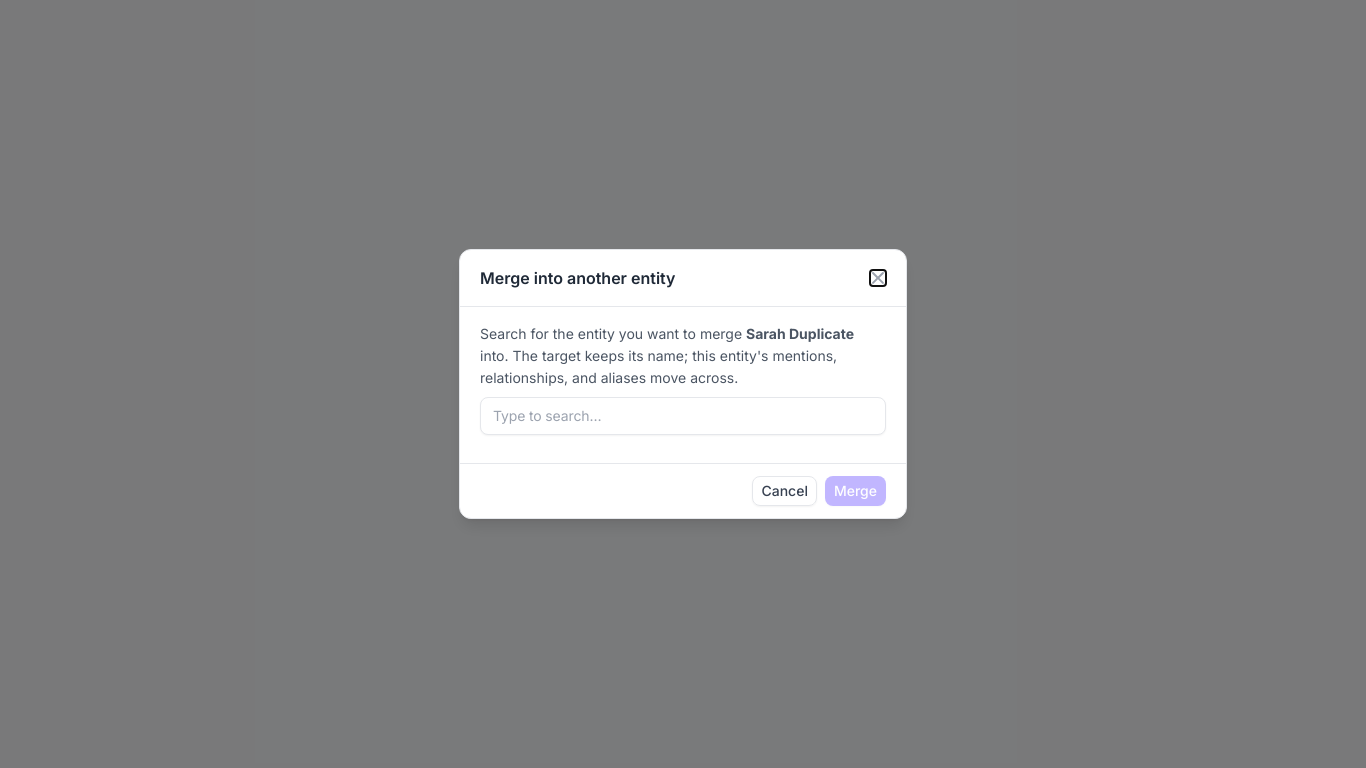
EntityMergeIntoDialog › searches and lists candidates filtered by entity_type
In the field with test id "merge-into-search": (683, 416) [480,397,886,435], type "Sarah"
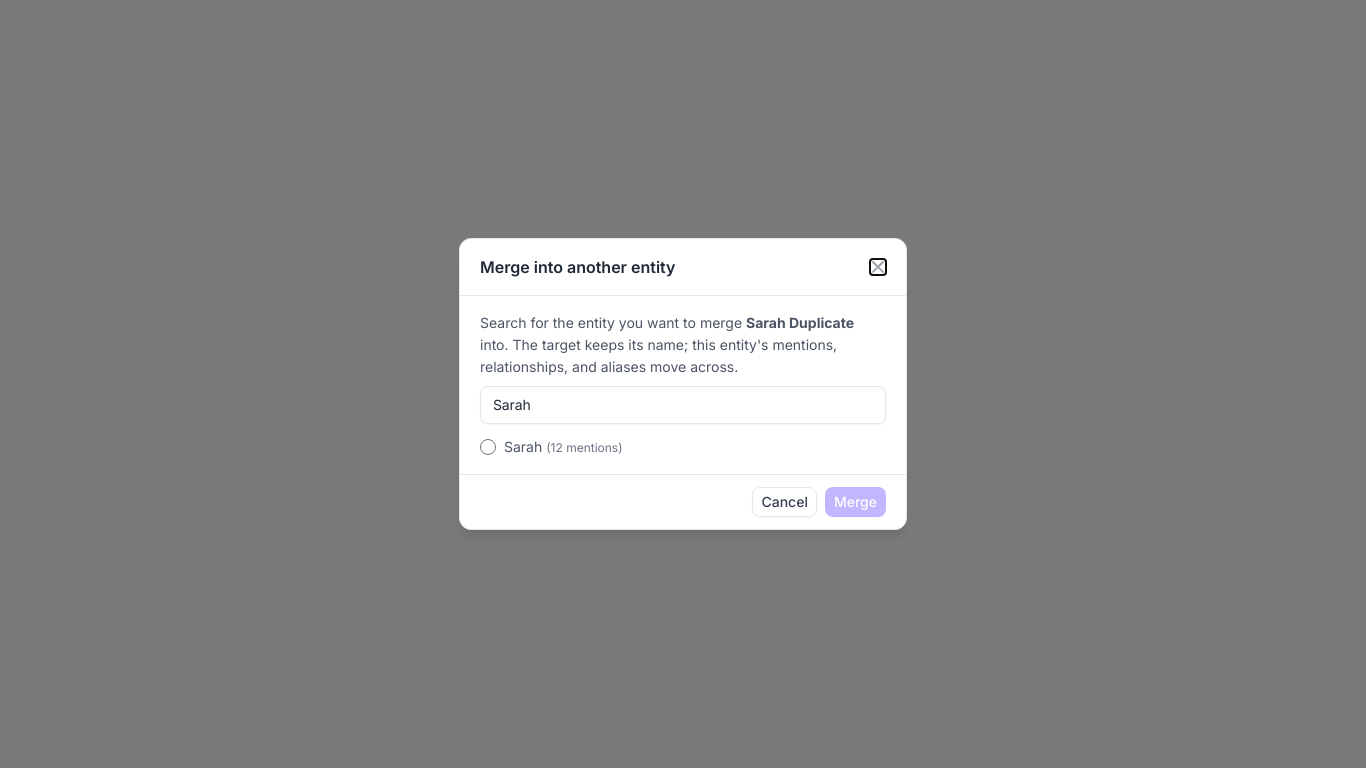
Expected: the radio button with test id "merge-into-radio-7" is shown, [480,439,496,455]
